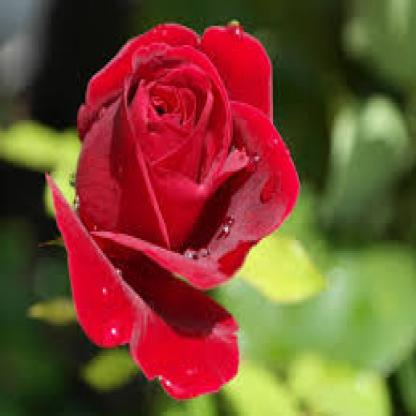Rose-Mawar: (45, 12, 302, 398)
